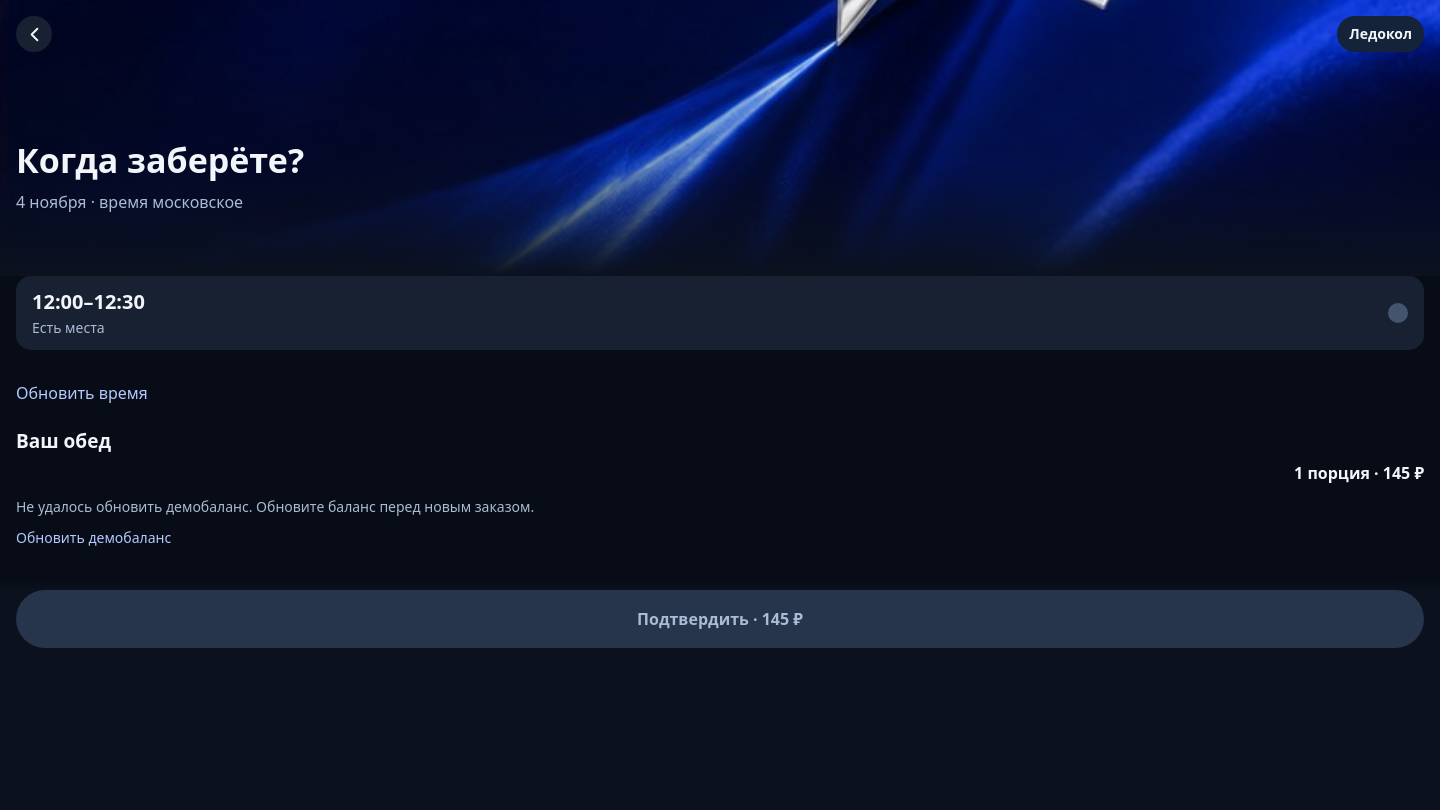
wallet outage blocks new checkout and explicit refresh recovers
The image size is (1440, 810).
Click the button with aria-label "12:00–12:30 · Есть места". click: point(88, 302)
box: [16,276,1424,350]
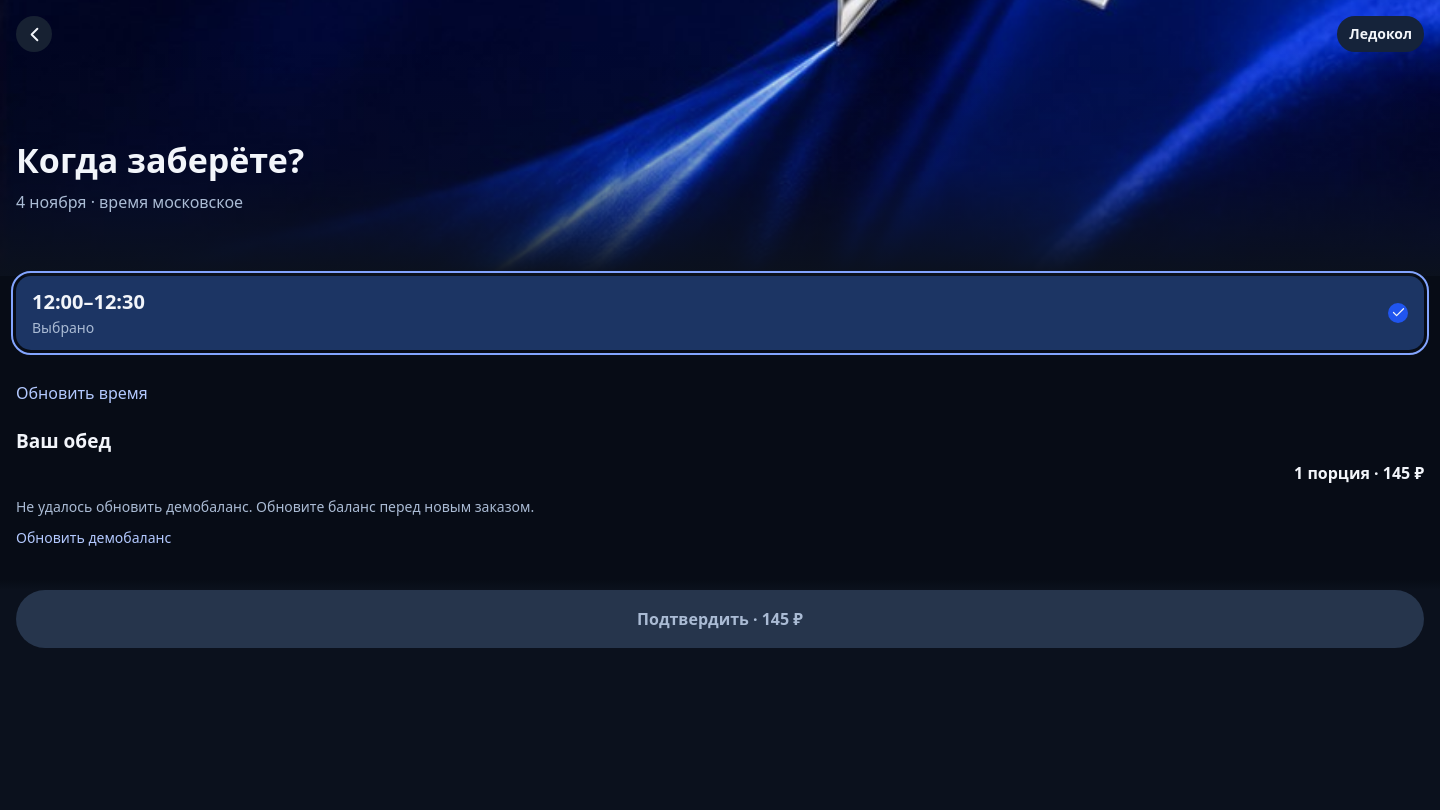
Expected: the text "Не удалось обновить демобаланс. Обновите баланс перед новым заказом." is shown, [16,497,534,516]
Expected: the button "Подтвердить · 145 ₽" is disabled, [16,590,1424,648]
Click the button "Обновить демобаланс". click: point(94, 538)
box: [16,516,171,560]
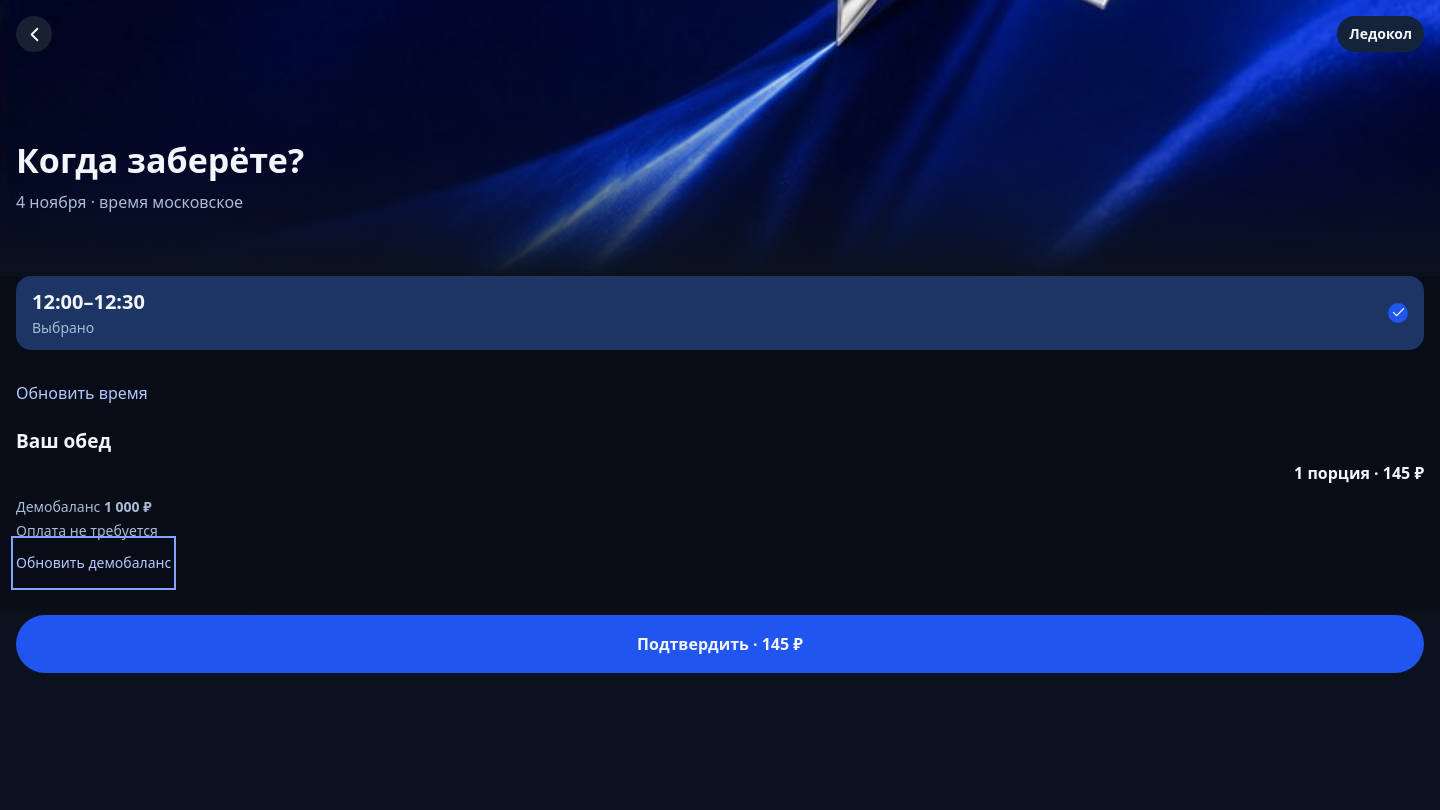
Now the button "Подтвердить · 145 ₽" is enabled, box [16,615,1424,673]
